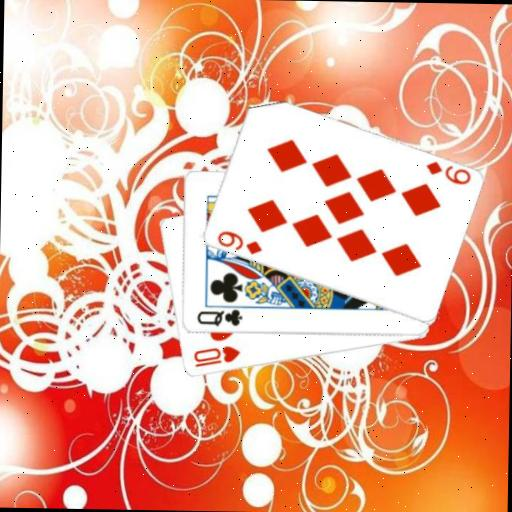10H: (190, 343, 241, 371)
9D: (213, 228, 263, 257), (423, 159, 473, 187)
QC: (194, 307, 244, 329)
